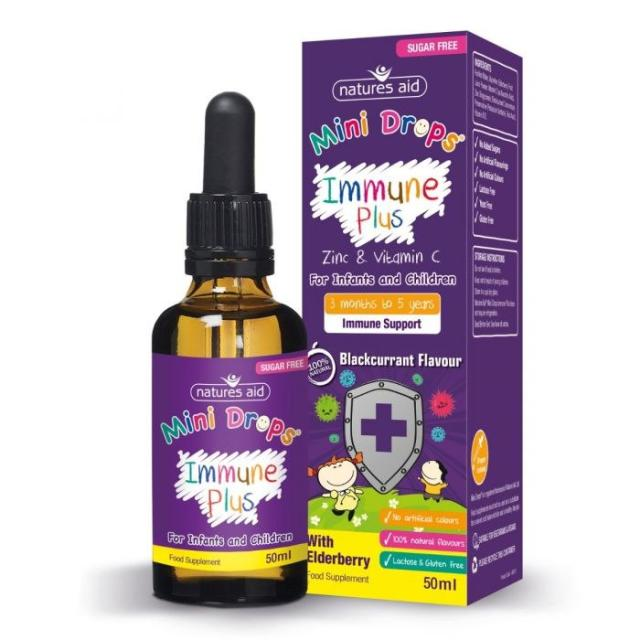mini-drop: (298, 45, 470, 610), (146, 296, 304, 598)
